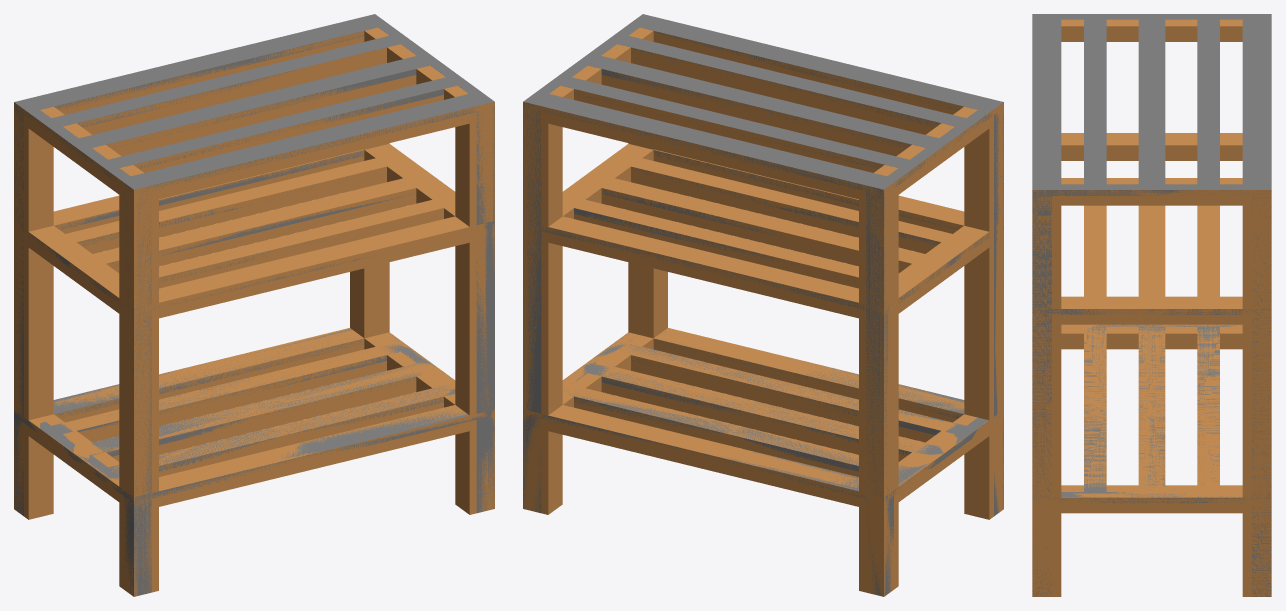
File: Shelves.fbx
3 views of the same model, side by side, from view 1: azimuth 30°, elevation 25°; view 2: azimuth 150°, elevation 25°; view 3: azimuth 270°, elevation 25° (orthographic).
Visible parts, largest first — view 1: Stack1, Base, Stack2, StackMetal2, BaseMetal, StackMetal1; view 2: Stack1, Base, Stack2, StackMetal2, BaseMetal, StackMetal1; view 3: StackMetal2, Stack1, Base, Stack2, BaseMetal, StackMetal1.
Boxes of the visible parts, left/top/right/bottom form: Stack1: left=14, top=144, right=494, bottom=497; Base: left=14, top=328, right=494, bottom=596; Stack2: left=14, top=27, right=494, bottom=496; StackMetal2: left=14, top=14, right=494, bottom=492; BaseMetal: left=14, top=328, right=494, bottom=596; StackMetal1: left=17, top=150, right=494, bottom=496; Stack1: left=523, top=144, right=1003, bottom=497; Base: left=523, top=328, right=1003, bottom=596; Stack2: left=523, top=27, right=1003, bottom=496; StackMetal2: left=523, top=14, right=1003, bottom=496; BaseMetal: left=523, top=331, right=1003, bottom=596; StackMetal1: left=523, top=150, right=1003, bottom=494; StackMetal2: left=1032, top=14, right=1271, bottom=496; Stack1: left=1032, top=133, right=1271, bottom=497; Base: left=1032, top=324, right=1271, bottom=596; Stack2: left=1032, top=19, right=1271, bottom=497; BaseMetal: left=1032, top=324, right=1271, bottom=596; StackMetal1: left=1032, top=309, right=1271, bottom=497.
Size of the model in its own units: 215 by 232 by 124.
